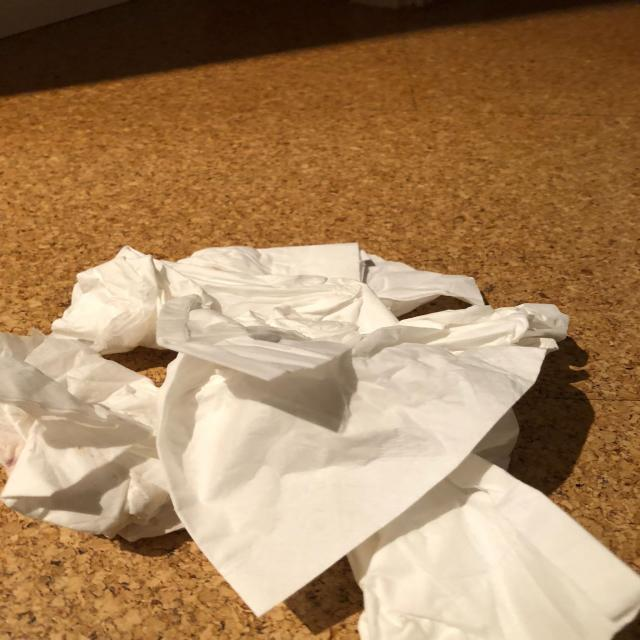kitchen paper: (167, 300, 556, 623), (61, 242, 483, 381), (341, 456, 640, 640), (0, 324, 185, 537)
